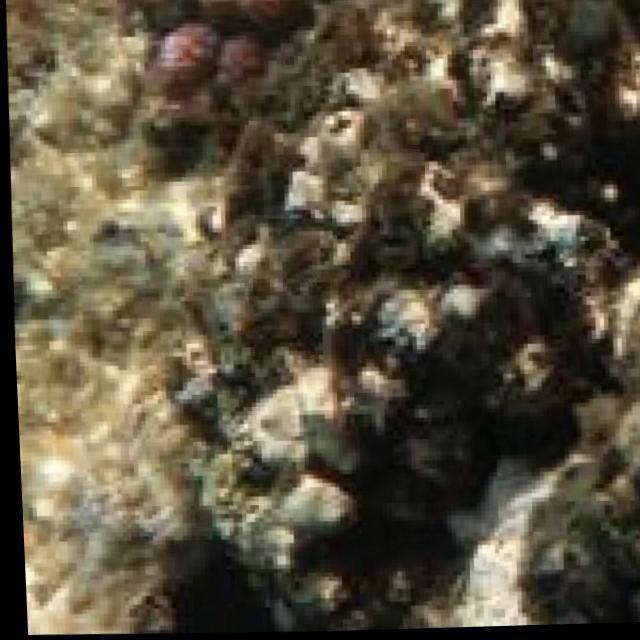Healthy Coral: (131, 0, 302, 158)
